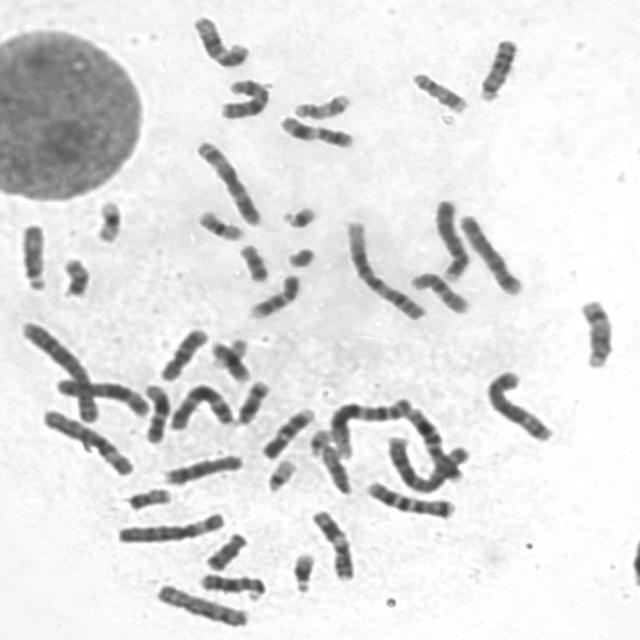A1: (341, 214, 431, 323), (325, 393, 415, 460)
A2: (15, 315, 103, 425), (382, 430, 471, 494)
A3: (191, 135, 265, 227), (165, 379, 238, 433)
B4: (453, 208, 528, 298), (430, 194, 474, 282)
B5: (480, 364, 558, 444), (55, 377, 151, 419)
C10: (154, 323, 212, 383), (405, 267, 474, 316)
C11: (307, 504, 357, 583), (274, 110, 357, 149)
C12: (188, 10, 253, 70), (138, 379, 173, 446)
C6: (36, 402, 138, 478), (112, 507, 230, 546)
C7: (400, 402, 467, 484), (360, 476, 460, 520)
C8: (151, 578, 252, 630), (158, 449, 246, 487)
C9: (256, 402, 318, 460), (243, 268, 304, 321)
D13: (474, 32, 522, 102), (195, 568, 269, 602)
D14: (576, 294, 618, 369), (232, 375, 274, 427)
D15: (15, 218, 50, 294), (314, 441, 355, 497)
E16: (193, 205, 249, 242), (210, 341, 251, 383)
E17: (406, 66, 472, 115), (288, 87, 355, 121)
E18: (200, 526, 252, 572), (234, 238, 273, 284)
F19: (89, 194, 126, 245), (209, 338, 250, 371)
F20: (56, 252, 93, 300), (122, 483, 175, 512)
G21: (288, 547, 318, 595), (276, 199, 322, 230)
G22: (262, 454, 300, 495), (304, 424, 334, 458)
X: (216, 73, 274, 120)
Y: (282, 241, 319, 269)
